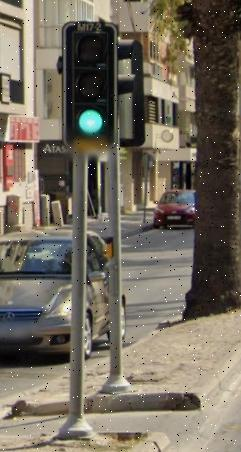greenlight: (60, 18, 122, 140)
